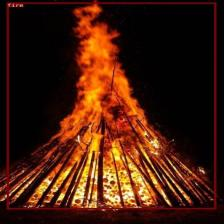fire: (6, 2, 216, 209)
